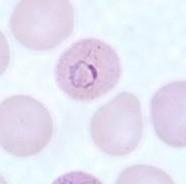Infected: (56, 37, 122, 101)
Uninfected: (10, 0, 74, 51), (0, 95, 55, 154), (91, 93, 144, 154), (153, 83, 186, 148)
